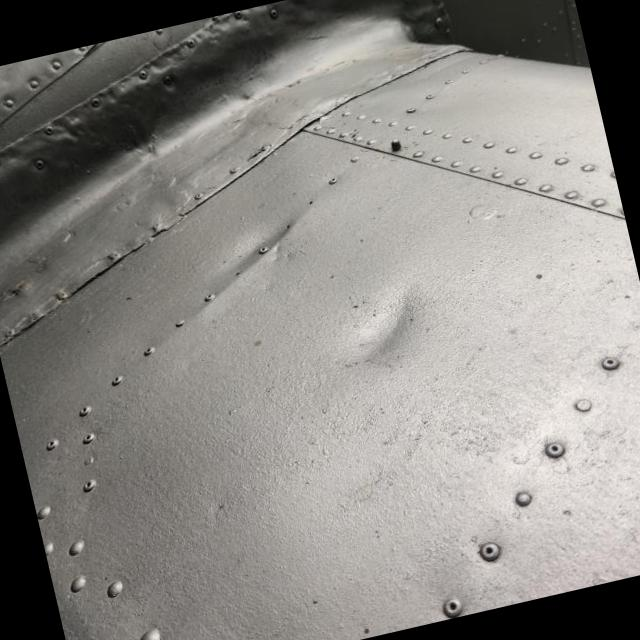Dent: (204, 187, 313, 302), (335, 275, 432, 374)
